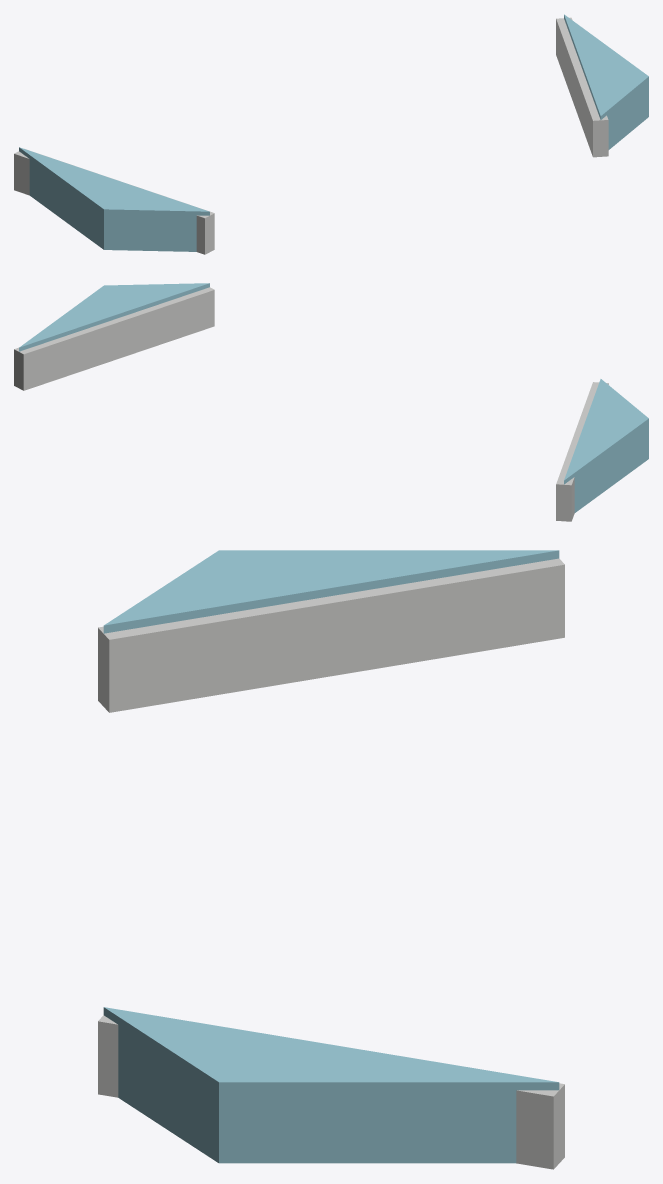
Rendered from Space_Slingshots.glb.
3 renders of one model, top to bottom at view 1: azimuth 30°, elevation 25°; view 2: azimuth 150°, elevation 25°; view 3: azimuth 270°, elevation 25°, orthographic. The views are drawn at different scales.
Visible parts, largest first — view 1: SlingBody1, SlingBody2, Sling2, Sling1; view 2: Sling2, SlingBody1, SlingBody2, Sling1; view 3: SlingBody2, Sling1, SlingBody1, Sling2.
Boxes of the visible parts, x1,y1,x2,y2 form: SlingBody1: [19, 147, 209, 251]; SlingBody2: [564, 14, 648, 149]; Sling2: [556, 17, 608, 157]; Sling1: [14, 148, 214, 254]; Sling2: [14, 287, 214, 390]; SlingBody1: [564, 379, 648, 512]; SlingBody2: [19, 283, 209, 351]; Sling1: [556, 382, 608, 521]; SlingBody2: [103, 1007, 559, 1163]; Sling1: [98, 558, 564, 712]; SlingBody1: [103, 550, 559, 633]; Sling2: [98, 1015, 564, 1169].
Bounding box in the file's own units: 0.4025 × 0.028 × 0.146.
